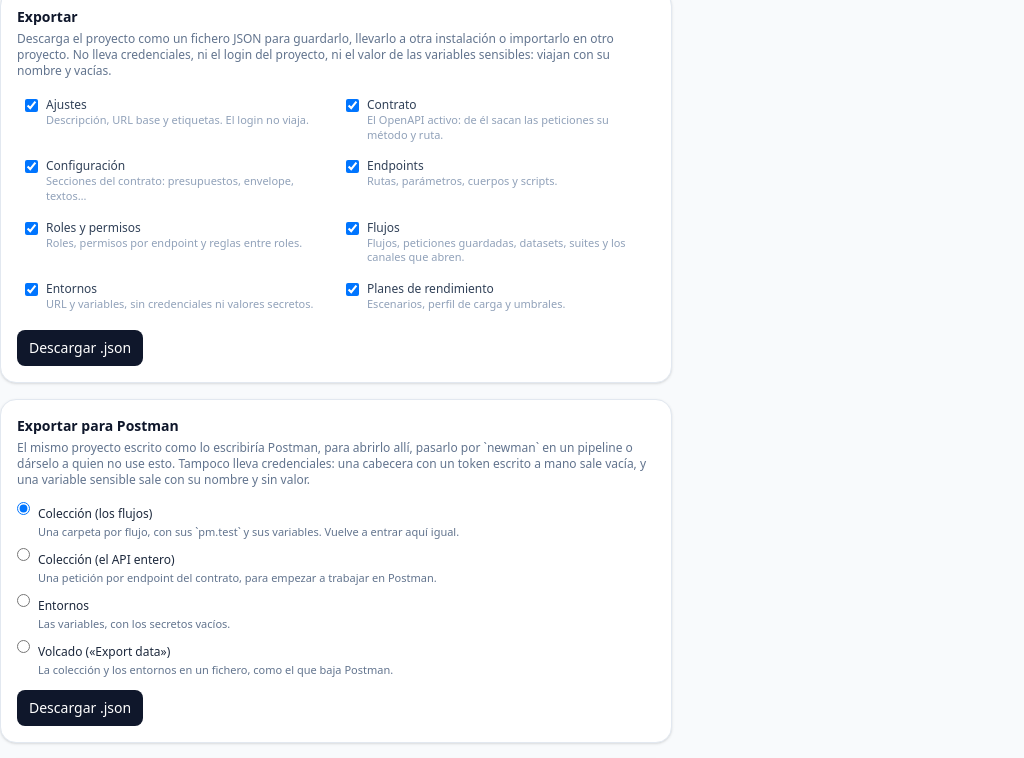
ProjectTransferPage › Postman: el tipo elegido va en la petición y lo que se queda fuera se nombra
Click the radio button labelled "Entornos Las variables, con los secretos vacíos.".
click(24, 600)  # box [17,594,30,607]
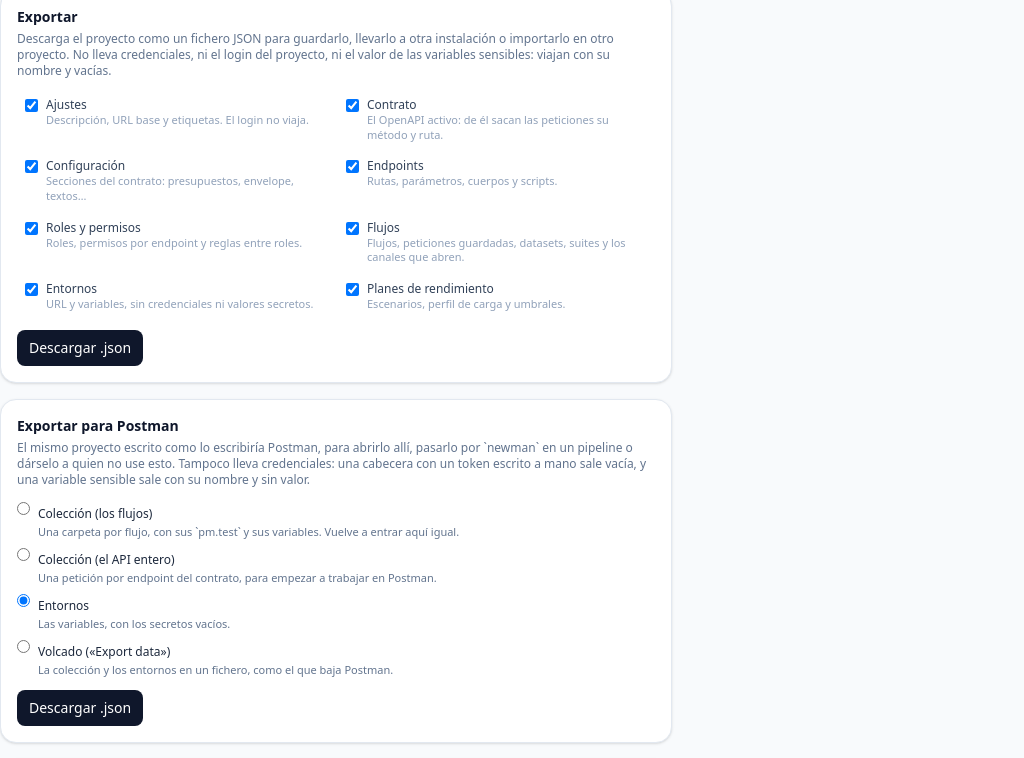
Click the button "Descargar .json" below "Volcado («Export data»)".
click(80, 708)  # box [17,690,143,726]
(page scrolled)
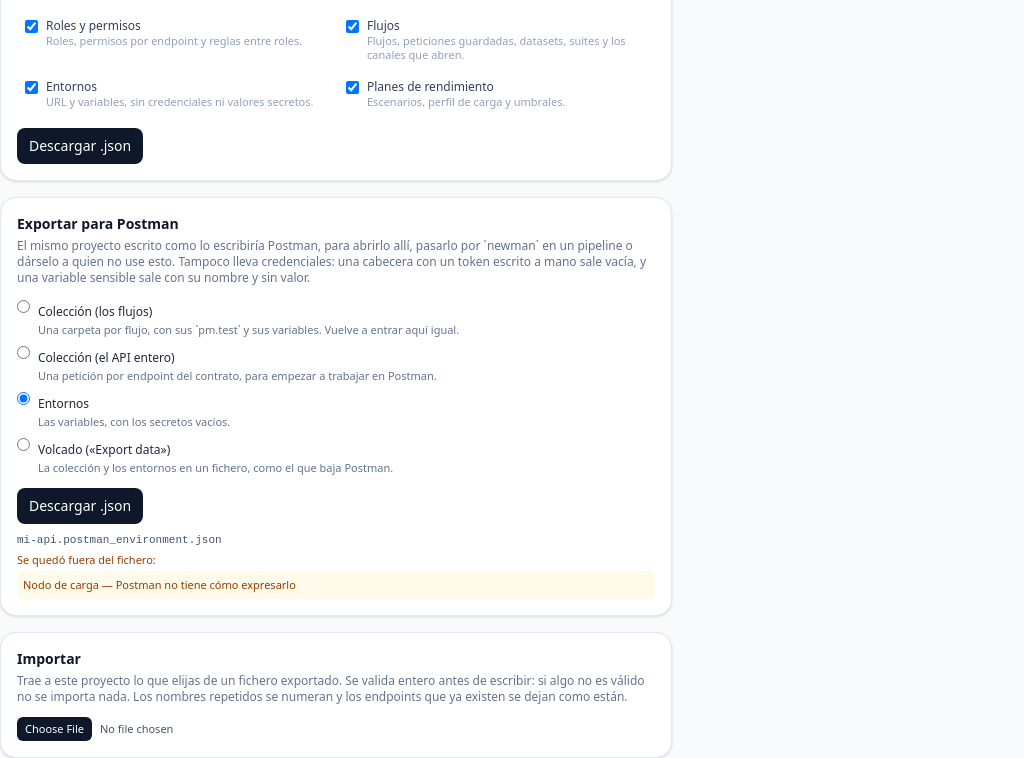
Check: the text "mi-api.postman_environment.json" is shown, box [17,534,222,546]
Check: the text "Se quedó fuera del fichero:" is shown, box [17,552,156,567]
Check: the text "Nodo de carga" is shown, box [23,577,99,592]
